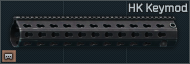HK 416A5 MRS KeyMod 14 inch handguard: (0, 0, 190, 64)
